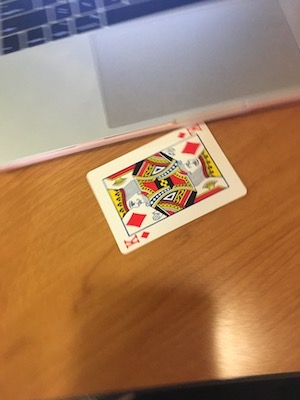KingOfDiamonds: (83, 117, 253, 254)
